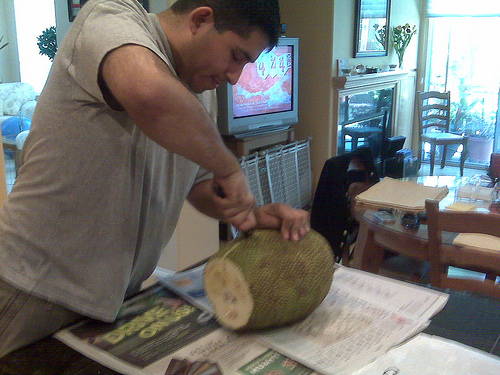jackfruit: (203, 226, 336, 332)
